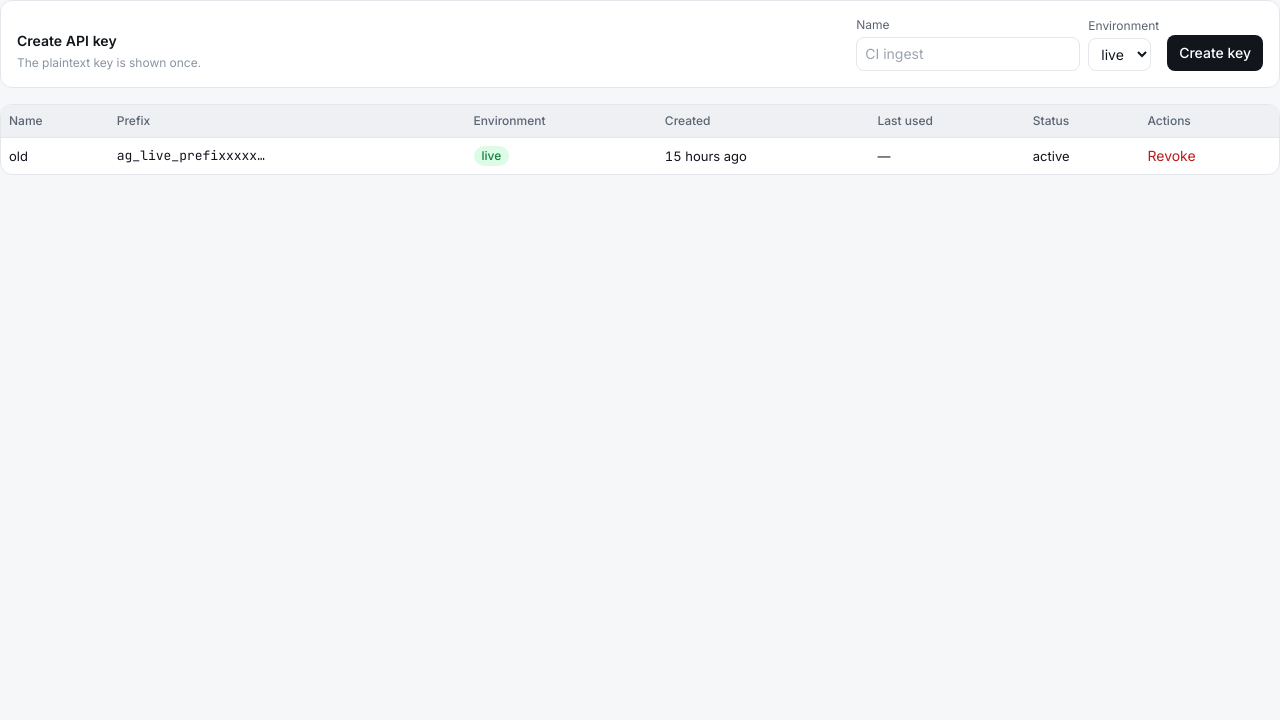
ApiKeysManager › revokes an active key
Click the button "Revoke".
click(1172, 156)  # box left=1147, top=146, right=1196, bottom=166
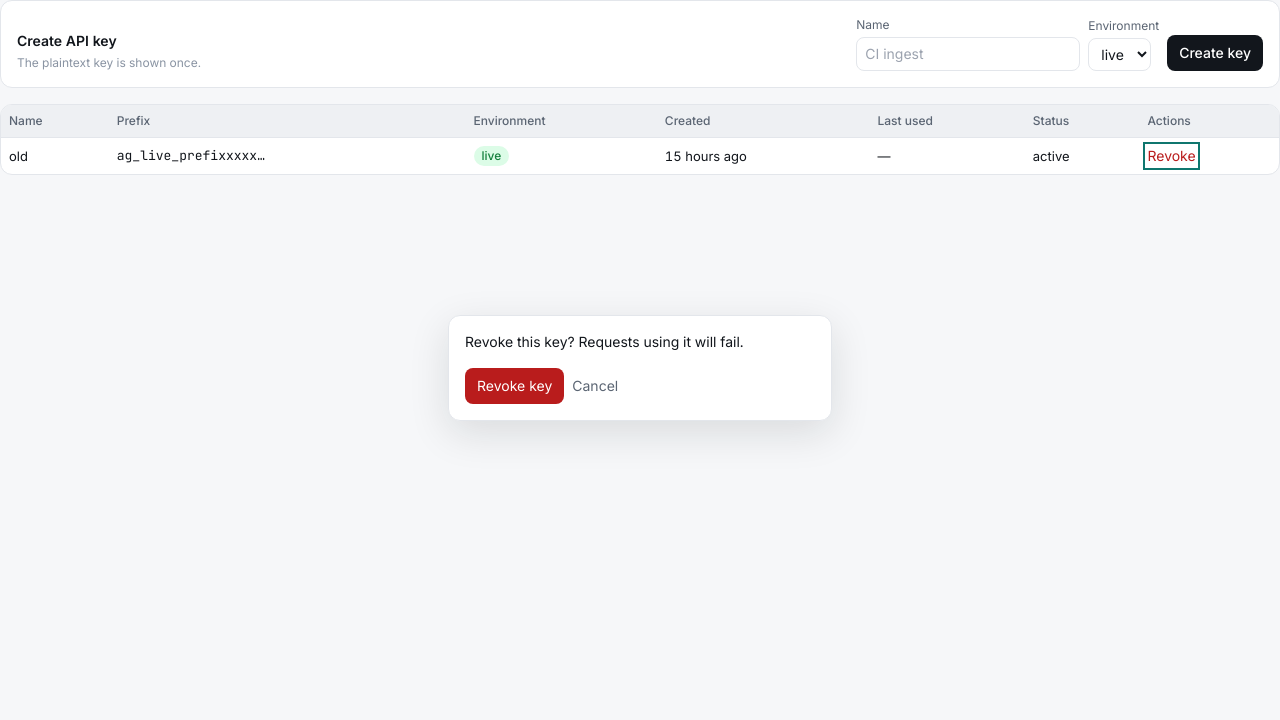
Click the button "Revoke key".
click(515, 386)  # box left=465, top=368, right=564, bottom=404
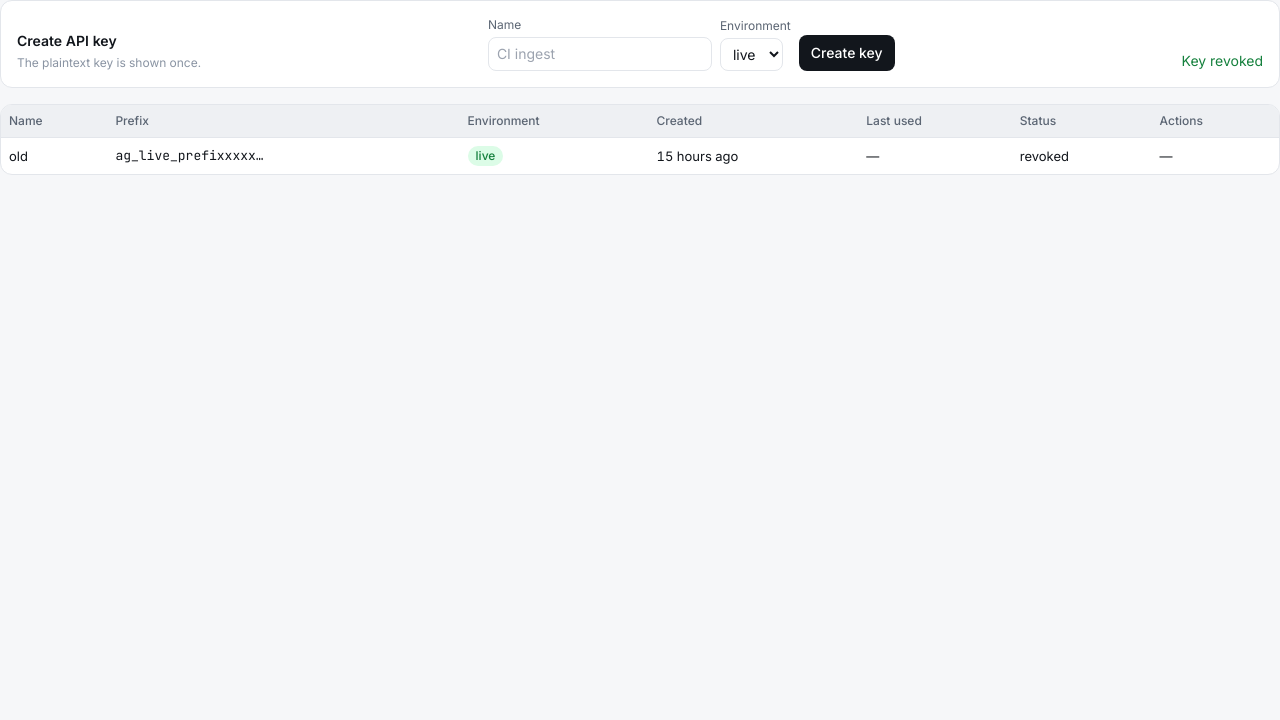
Now the text "Key revoked" is shown, box left=1182, top=51, right=1263, bottom=71
Now the text "revoked" is shown, box left=1012, top=138, right=1152, bottom=174
